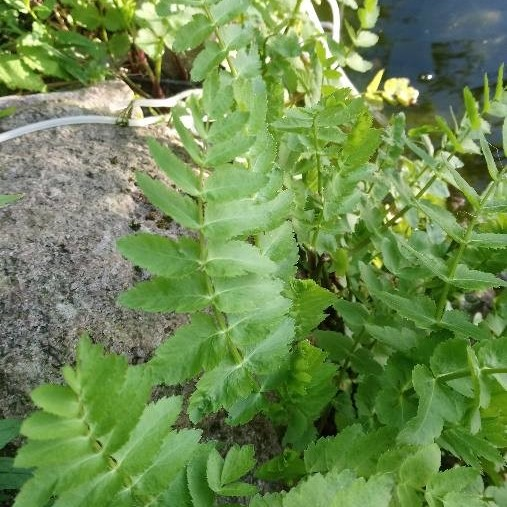obstacle: (81, 34, 489, 477)
